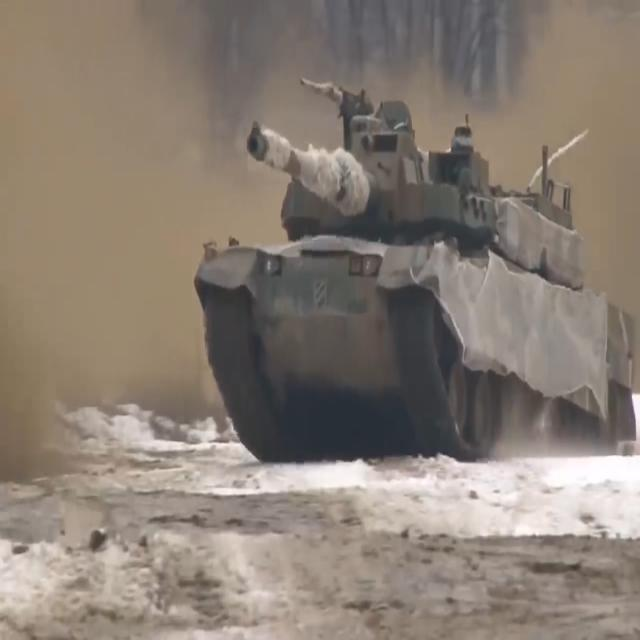korea tank: (190, 73, 640, 466)
